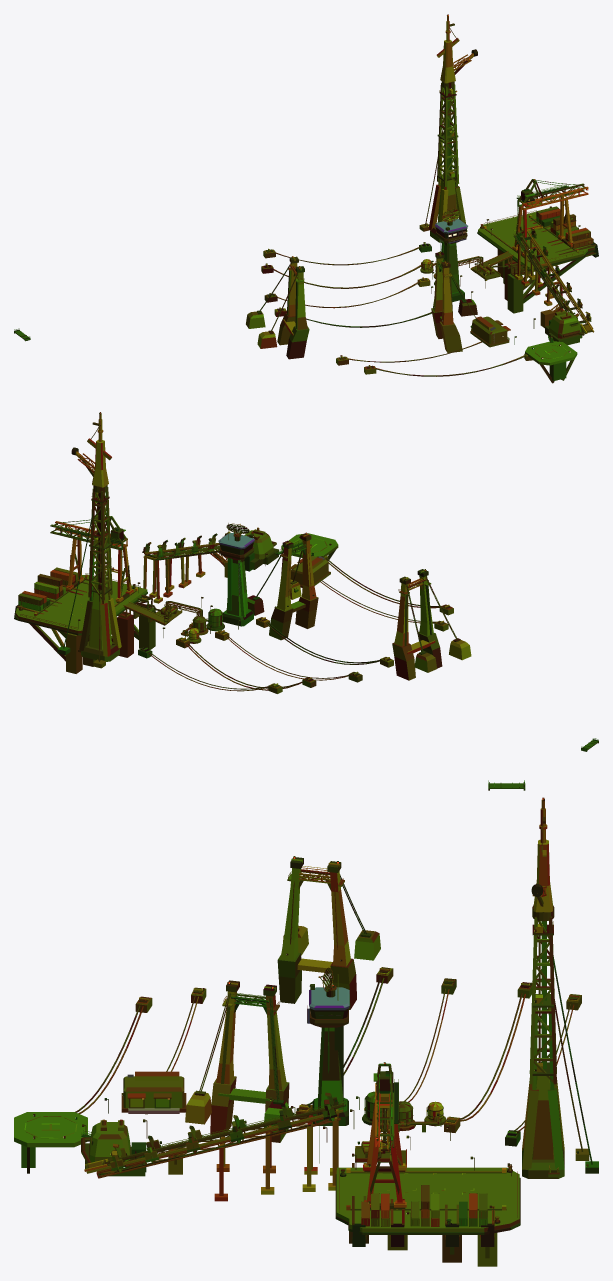
The model's file is port.glb.
The picture shows the model from 3 angles, top to bottom: view 1: azimuth 30°, elevation 25°; view 2: azimuth 150°, elevation 25°; view 3: azimuth 270°, elevation 25°; orthographic projection. The views are drawn at different scales.
Parts seen in each view (by area): view 1: port_geo, crane_geo; view 2: port_geo, crane_geo; view 3: port_geo, crane_geo.
Boxes of the visible parts, bbox=[...] form: port_geo: bbox=[246, 14, 598, 383]; crane_geo: bbox=[512, 179, 588, 257]; port_geo: bbox=[14, 412, 471, 693]; crane_geo: bbox=[50, 516, 133, 603]; port_geo: bbox=[14, 797, 598, 1266]; crane_geo: bbox=[363, 1062, 406, 1209].
Size of the model in its own units: 321 by 148 by 182.
